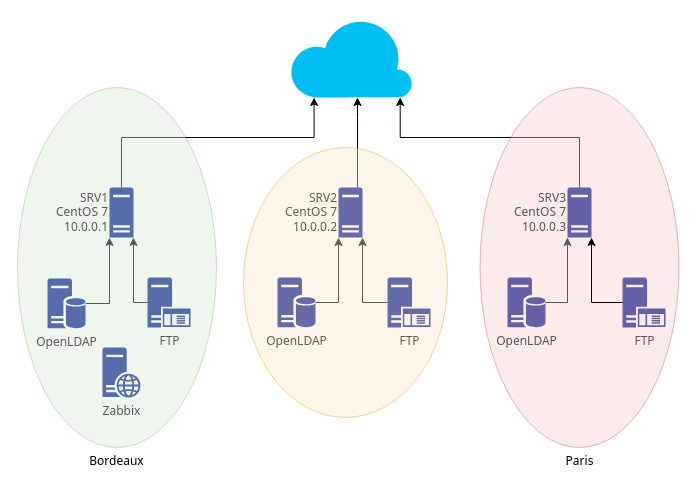
This 697x485 diagram has some shape labels left out. The shapes that lost their labels are listed below. From the top down, each one's centre as x and y in pixels, then its label:
At point (350, 57): "10.0.0.254 AZURE".
At point (345, 282): "Toulouse".
